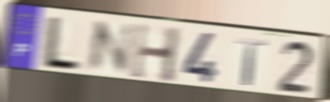2: (275, 39, 316, 98)
4: (181, 30, 221, 86)
H: (129, 21, 184, 85)
L: (38, 15, 84, 73)
N: (84, 20, 136, 74)
T: (235, 36, 269, 88)
